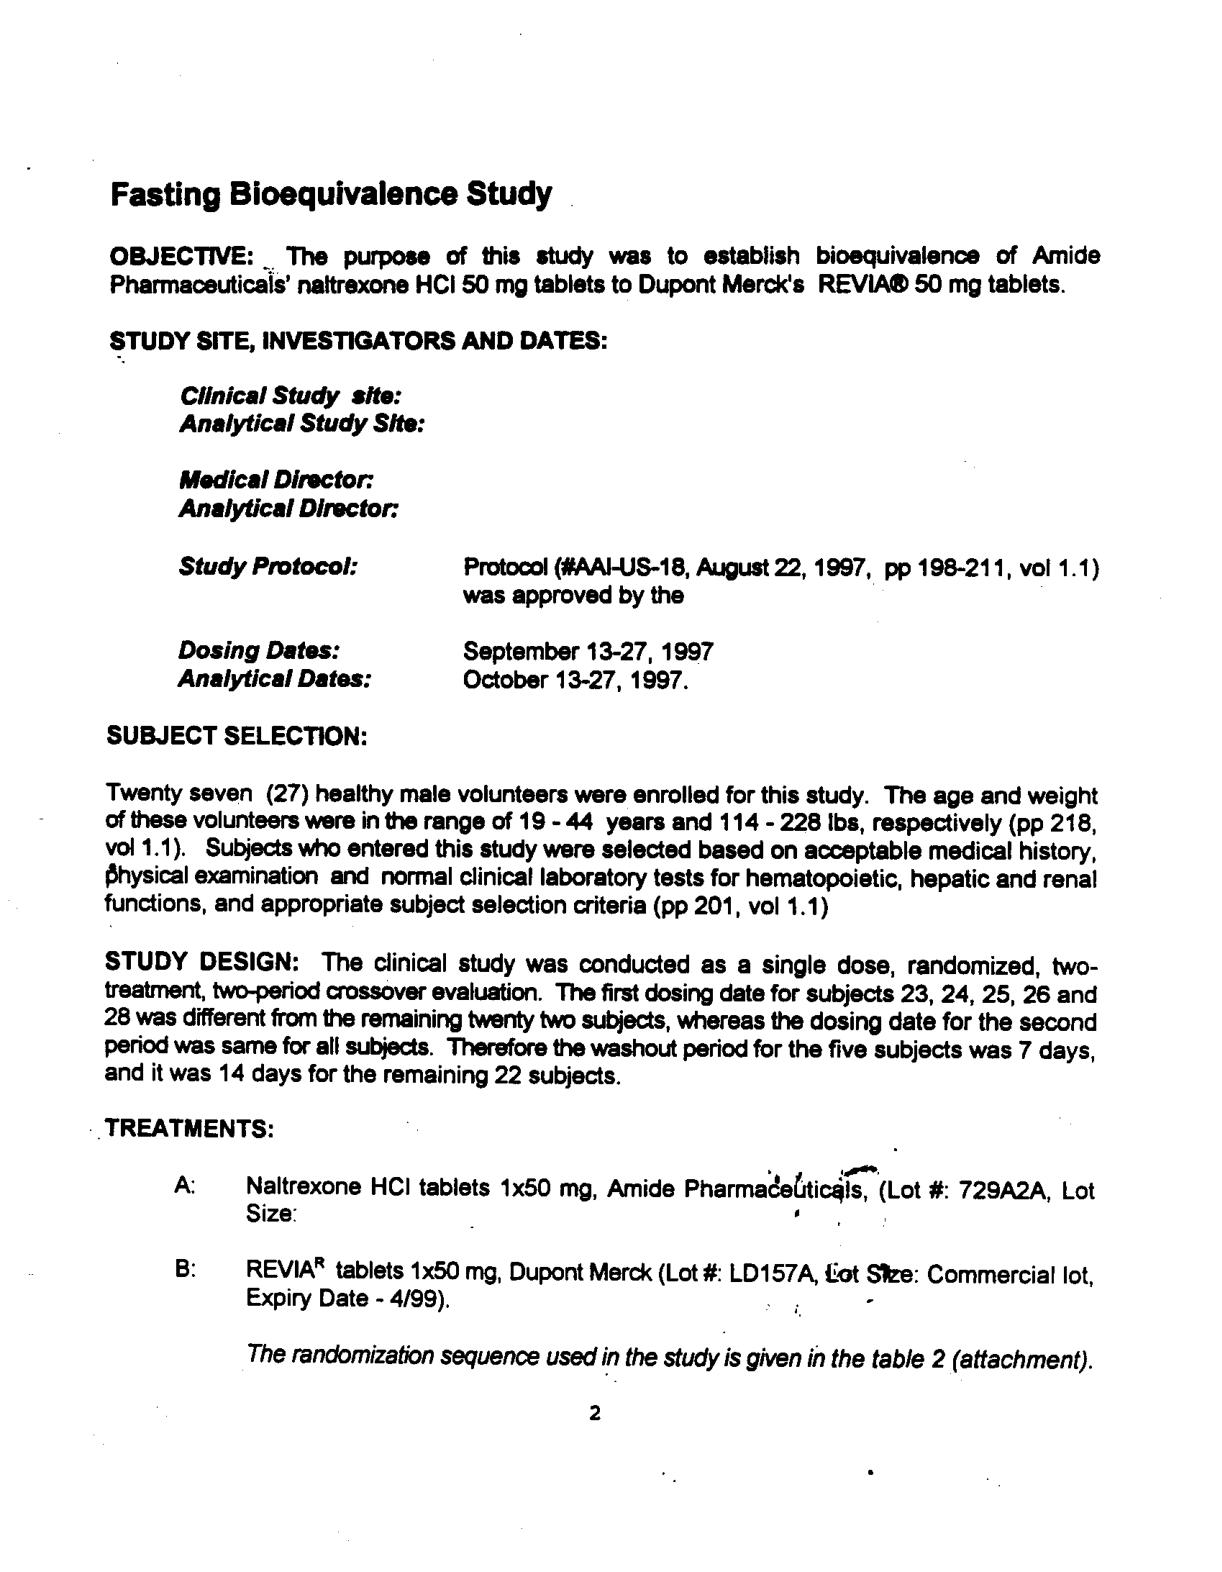nolines: (176, 382, 1103, 692)
